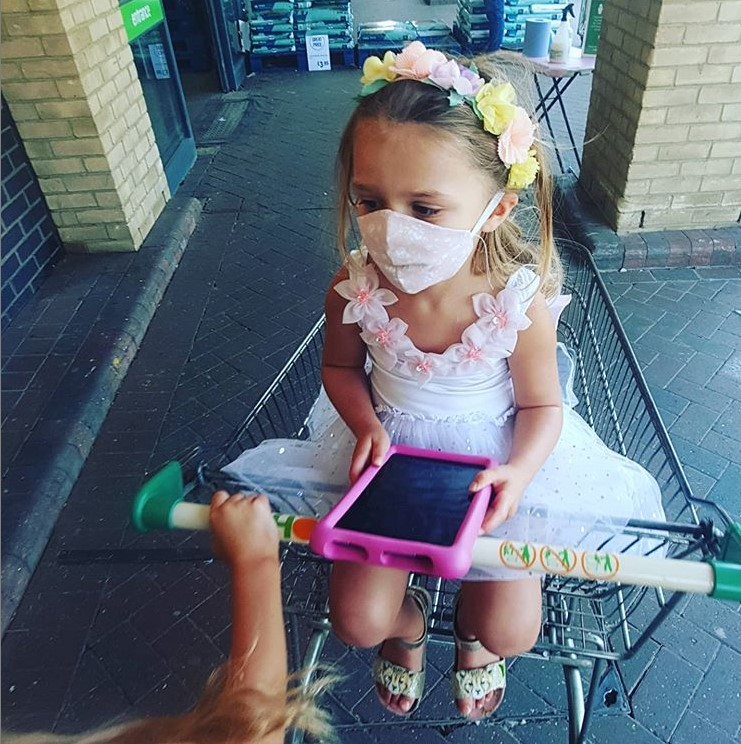face_with_mask: (345, 56, 530, 296)
